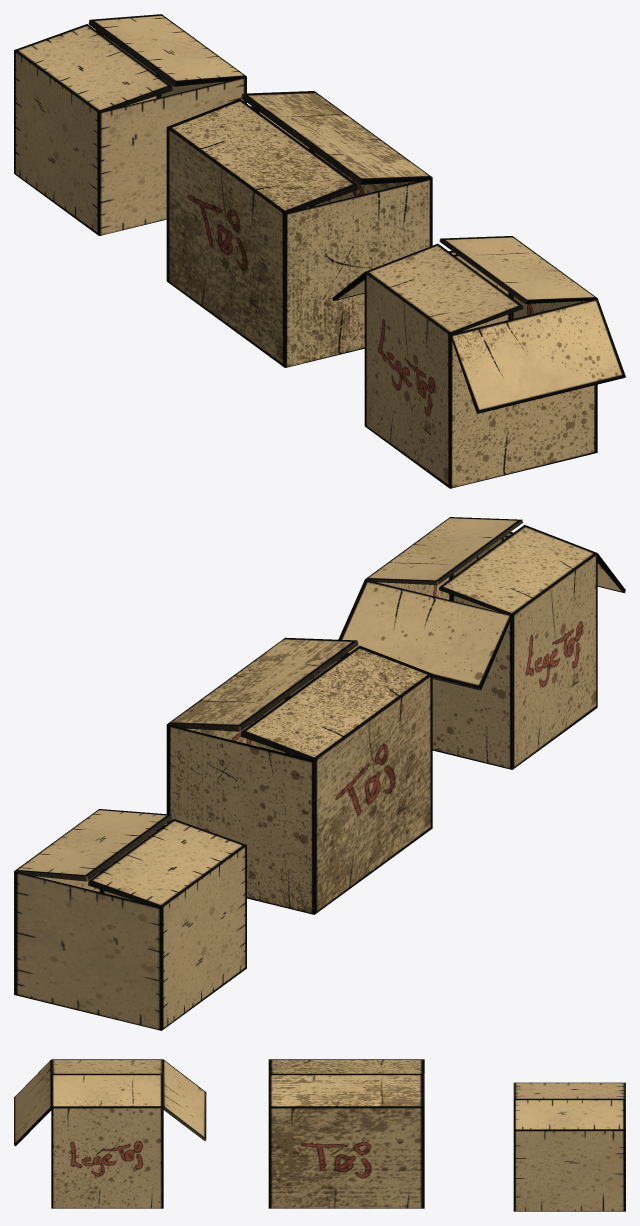
File: Boxes.fbx
3 renders of one model, top to bottom at view 1: azimuth 30°, elevation 25°; view 2: azimuth 150°, elevation 25°; view 3: azimuth 270°, elevation 25°, orthographic. The views are drawn at different scales.
Visible parts, largest first — view 1: Box_2, Box_1, Box_3; view 2: Box_2, Box_1, Box_3; view 3: Box_2, Box_1, Box_3.
Boxes of the visible parts, left/top/right/bottom form: Box_2: left=166, top=91, right=432, bottom=367; Box_1: left=332, top=236, right=625, bottom=488; Box_3: left=14, top=14, right=246, bottom=235; Box_2: left=166, top=637, right=432, bottom=914; Box_1: left=338, top=517, right=625, bottom=769; Box_3: left=14, top=809, right=246, bottom=1030; Box_2: left=268, top=1059, right=424, bottom=1208; Box_1: left=14, top=1059, right=206, bottom=1208; Box_3: left=513, top=1082, right=625, bottom=1211.
Size of the model in its own units: 0.6041 by 0.679 by 3.29.
